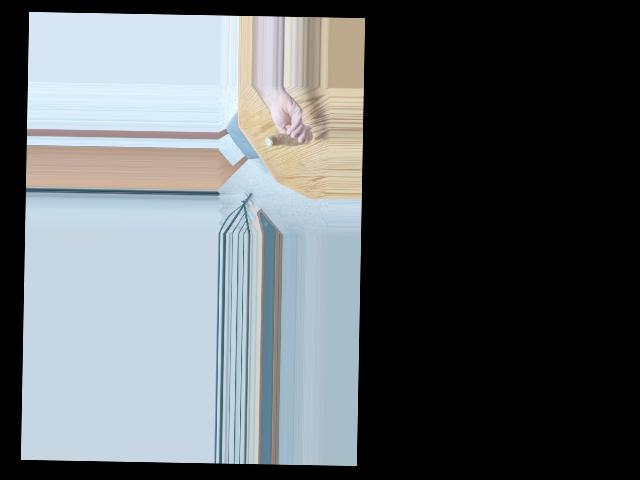sweet_potato: (263, 126, 312, 149)
